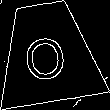O_N: (24, 24, 72, 81)
